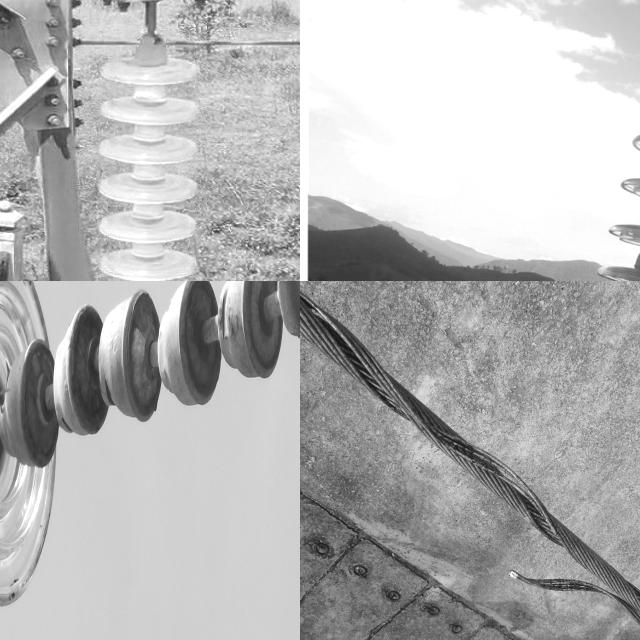杆塔: (0, 0, 210, 281)
正常绝缘子: (0, 281, 300, 636), (82, 8, 225, 281), (556, 32, 640, 281)
电缆破损: (426, 281, 640, 455)
绝缘子破损: (174, 281, 240, 405), (118, 291, 176, 421), (62, 302, 113, 435), (20, 330, 67, 471), (242, 281, 292, 382)
